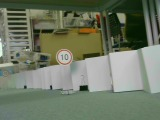speed_10: (55, 49, 73, 67)
